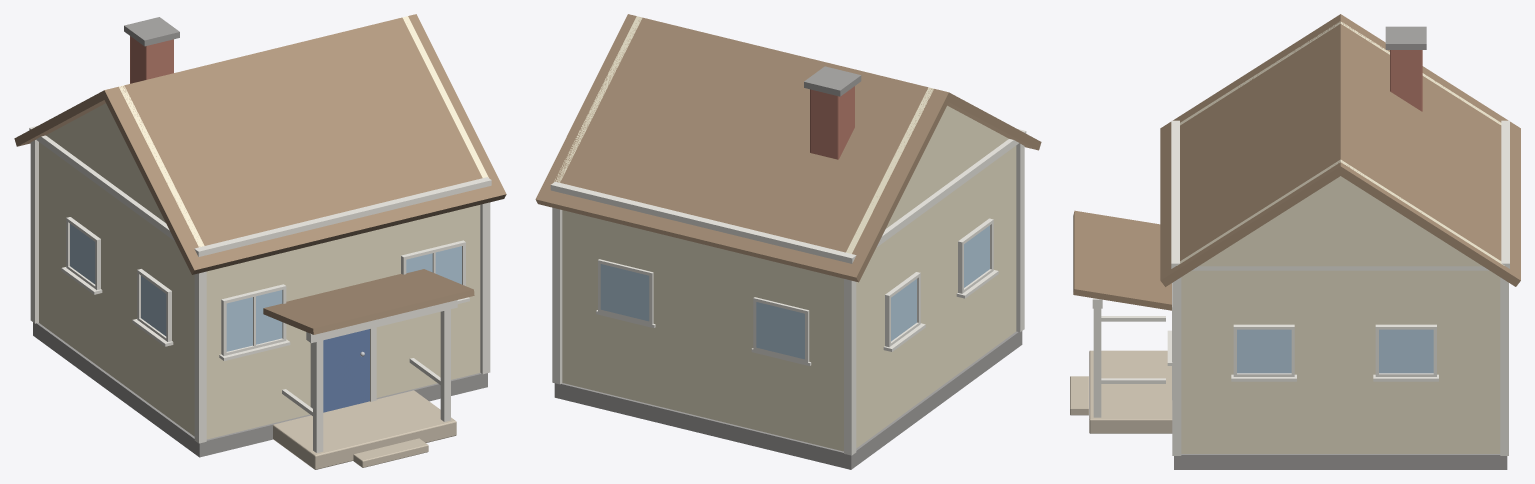
The model's file is HouseCreamModel.glb.
The picture shows the model from 3 angles, left to right: view 1: azimuth 30°, elevation 25°; view 2: azimuth 150°, elevation 25°; view 3: azimuth 270°, elevation 25°; orthographic projection. The views are drawn at different scales.
Parts seen in each view (by area): view 1: HouseCreamModel; view 2: HouseCreamModel; view 3: HouseCreamModel.
Boxes of the visible parts, x1,y1,x2,y2 form: HouseCreamModel: (14, 14, 506, 469); HouseCreamModel: (535, 14, 1041, 469); HouseCreamModel: (1070, 14, 1520, 469).
Bounding box in the file's own units: 6.6 × 6.61 × 8.26.
